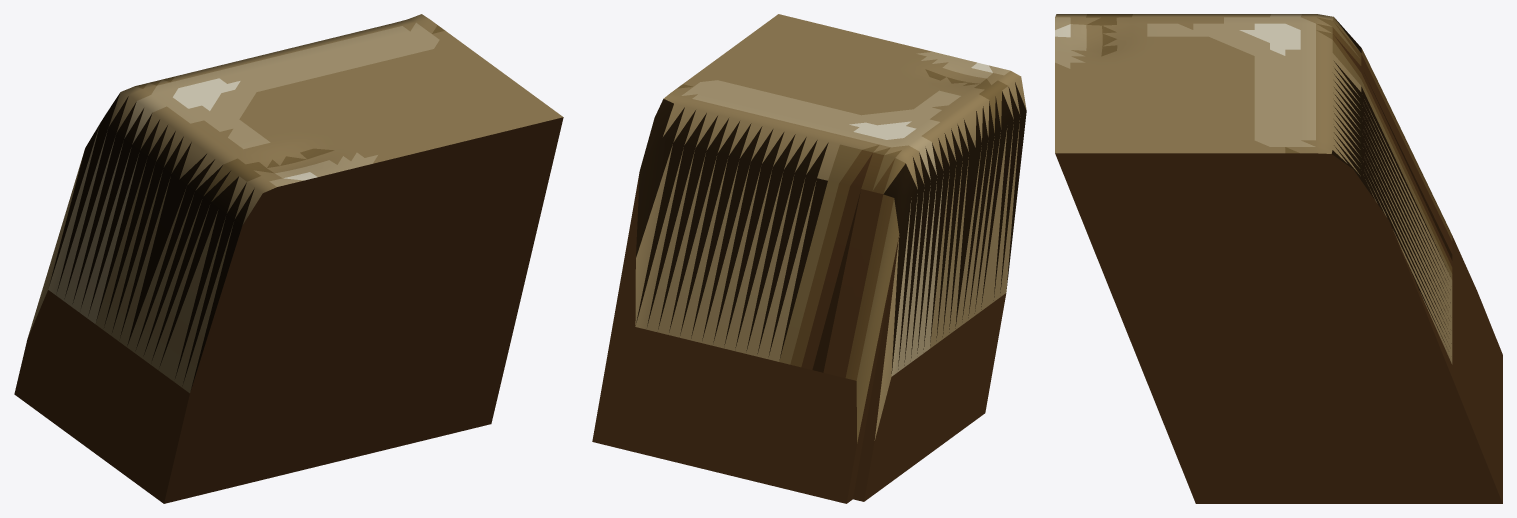
The model's file is skull_chest_t1.glb.
The picture shows the model from 3 angles, left to right: view 1: azimuth 30°, elevation 25°; view 2: azimuth 150°, elevation 25°; view 3: azimuth 270°, elevation 25°; orthographic projection. The views are drawn at different scales.
Visible parts, largest first — view 1: skull_chest_t1; view 2: skull_chest_t1; view 3: skull_chest_t1.
Part boxes in pixels (<box>): skull_chest_t1: <box>14,14,563,503</box>; skull_chest_t1: <box>592,14,1026,503</box>; skull_chest_t1: <box>1055,14,1502,503</box>.
Size of the model in its own units: 12 by 12.6 by 14.59.
